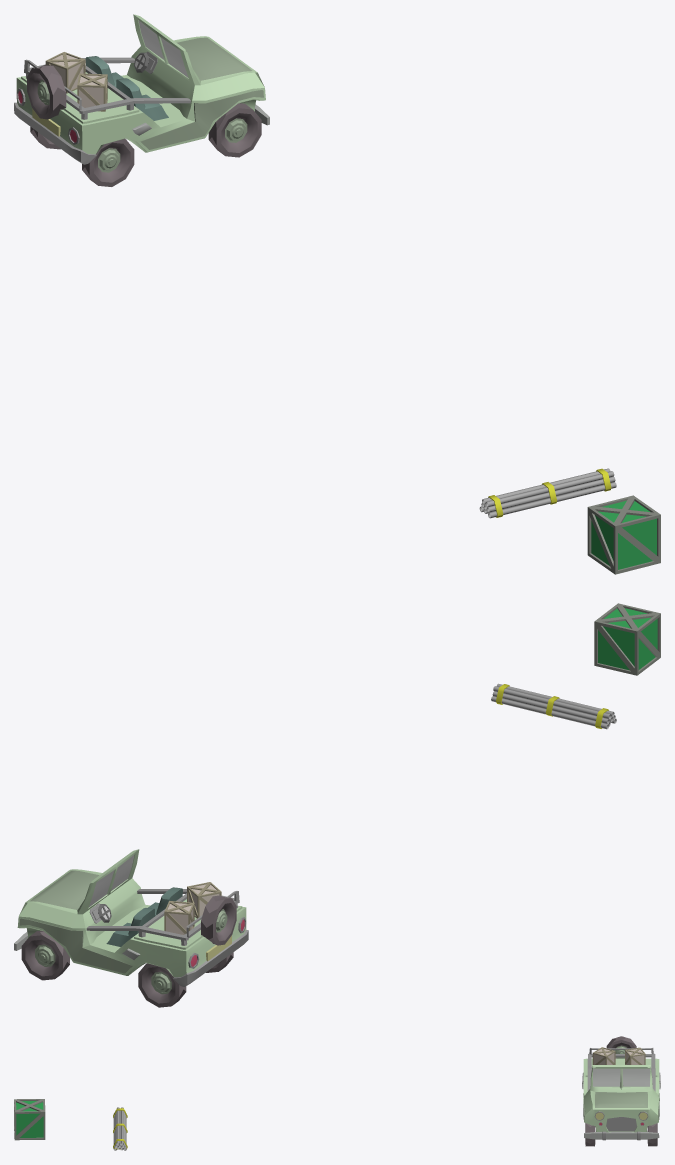
The model's file is assets.fbx.
3 views of the same model, one above another, from view 1: azimuth 30°, elevation 25°; view 2: azimuth 150°, elevation 25°; view 3: azimuth 270°, elevation 25° (orthographic). The views are drawn at different scales.
Visible parts, largest first — view 1: Jeep01, Crate, Pipes.001; view 2: Jeep01, Crate, Pipes.001; view 3: Jeep01, Crate, Pipes.001.
Part boxes in pixels (x1,y1,x2,y2): Jeep01: (14, 14, 269, 186); Crate: (587, 495, 660, 574); Pipes.001: (479, 468, 616, 518); Jeep01: (14, 849, 248, 1007); Crate: (594, 603, 660, 675); Pipes.001: (491, 683, 616, 729); Jeep01: (582, 1036, 660, 1146); Crate: (14, 1099, 45, 1140); Pipes.001: (113, 1107, 127, 1150).
Size of the model in its own units: 365 by 246 by 1769.
